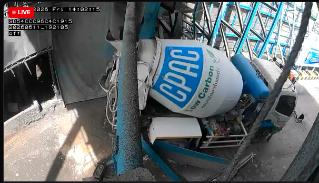cement_mixer_truck: (106, 28, 298, 149)
